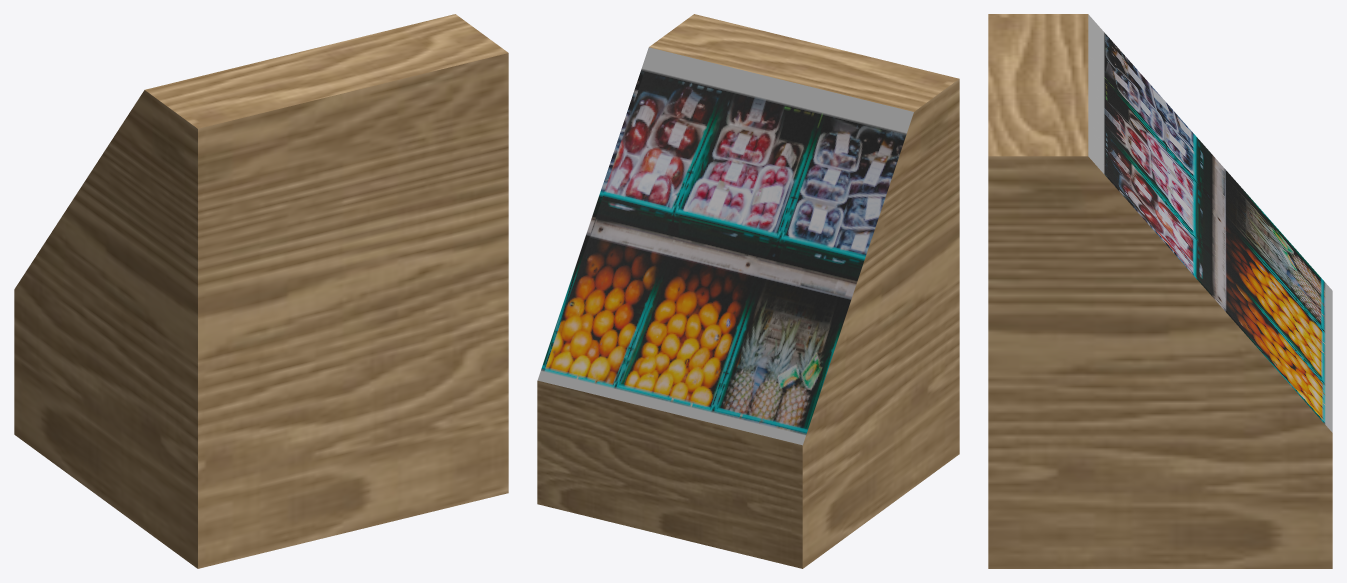
The model's file is small_orange_stand.glb.
3 views of the same model, side by side, from view 1: azimuth 30°, elevation 25°; view 2: azimuth 150°, elevation 25°; view 3: azimuth 270°, elevation 25° (orthographic). The views are drawn at different scales.
Parts seen in each view (by area): view 1: Librero.017; view 2: Librero.017; view 3: Librero.017.
Part boxes in pixels (x1,y1,x2,y2): Librero.017: (14,14,508,568); Librero.017: (537,14,959,568); Librero.017: (988,14,1332,568).
Bounding box in the file's own units: 1.61 × 2.18 × 1.65.
Materials: 2 (2 with a texture image).
